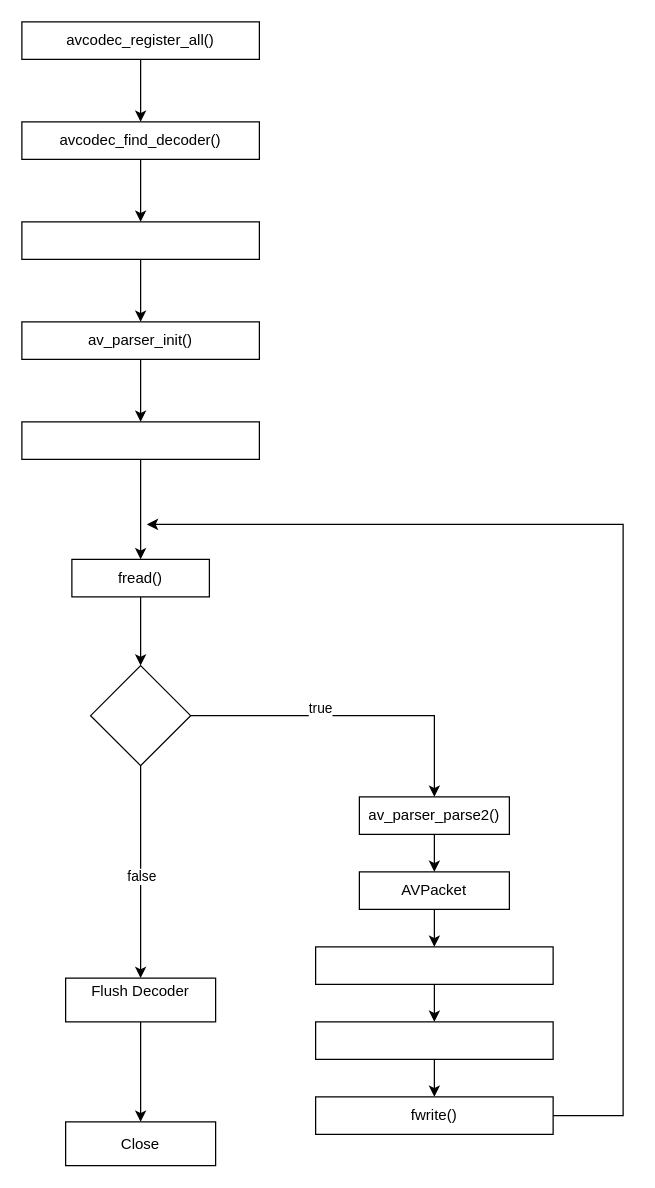
This 655x1188 diagram has some shape labels left out. Here are the shapes that lost their labels. From the top down, the centre of each, then its label:
(x=140, y=240): avcodec_alloc_context3()
(x=140, y=440): avcodec_open2()
(x=140, y=715): End?
(x=433, y=965): avcodec_decode_vedio2()
(x=433, y=1040): AVFrame
